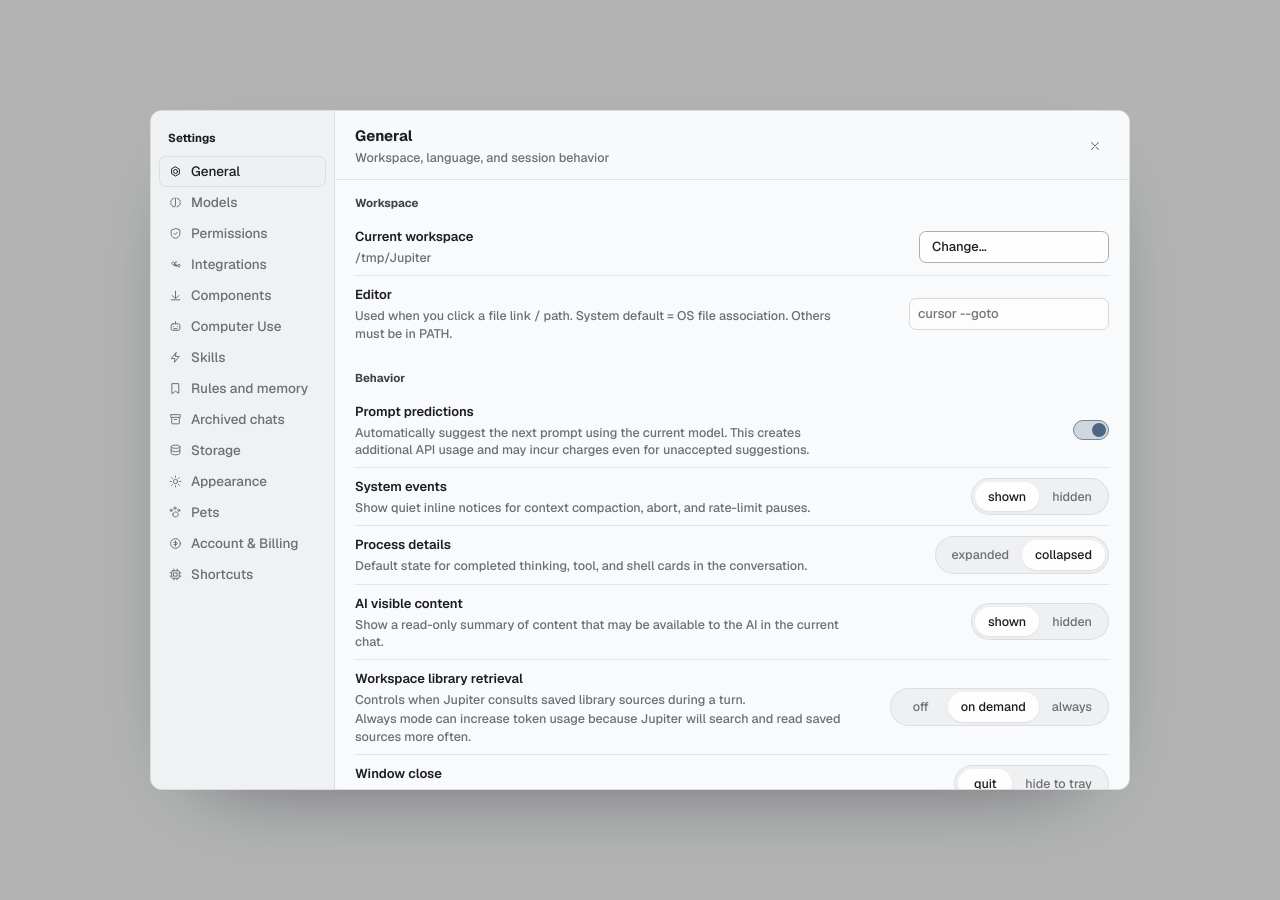
SettingsModal › shows detected browser automation status in components
The width and height of the screenshot is (1280, 900).
Click the button "Components".
click(242, 295)  # box [159, 280, 326, 311]
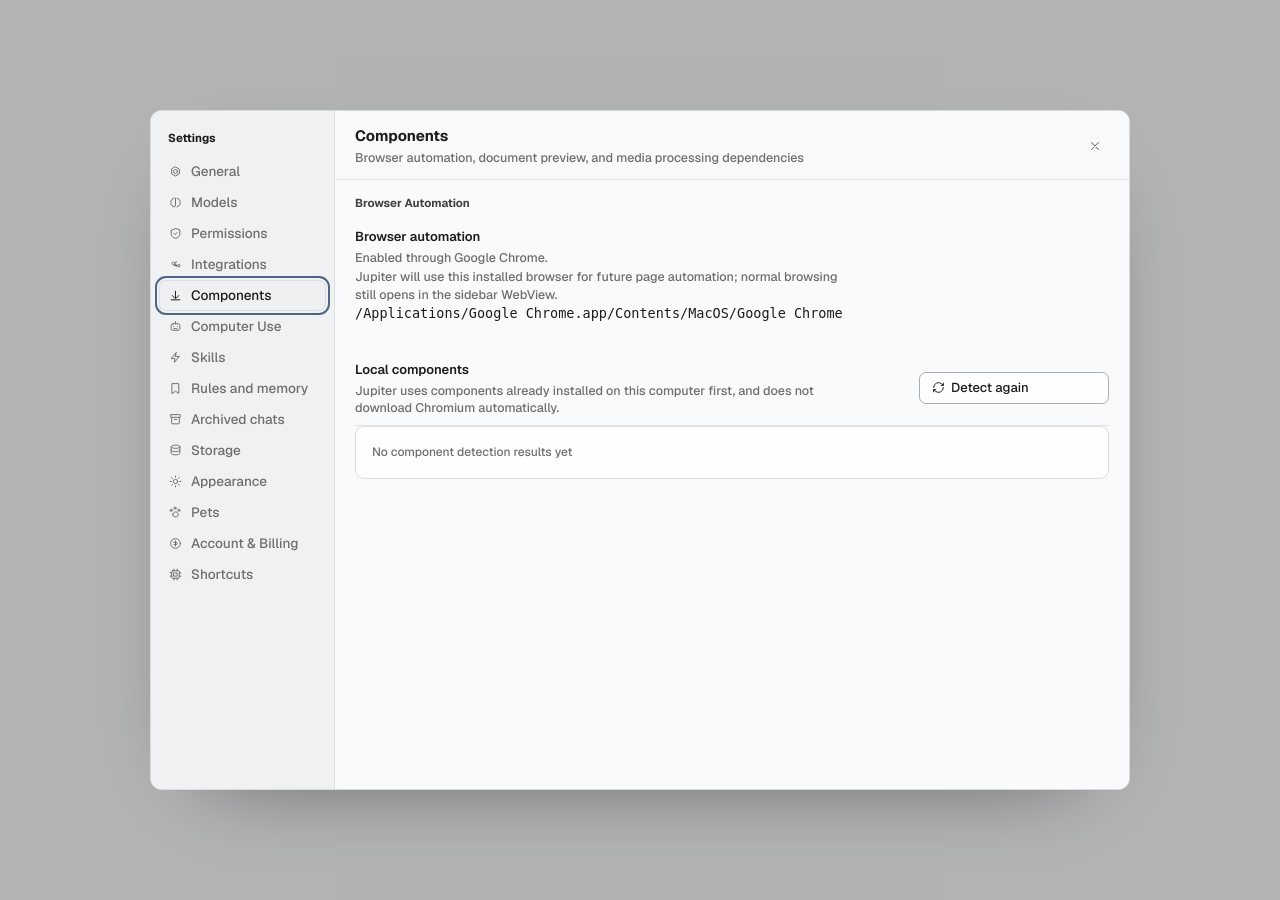
Result: the text "Browser automation" is shown at [355, 228, 480, 245]
Result: the text "Enabled through Google Chrome." is shown at [355, 249, 548, 266]
Result: the text "/Applications/Google Chrome.app/Contents/MacOS/Google Chrome" is shown at [355, 305, 843, 321]
